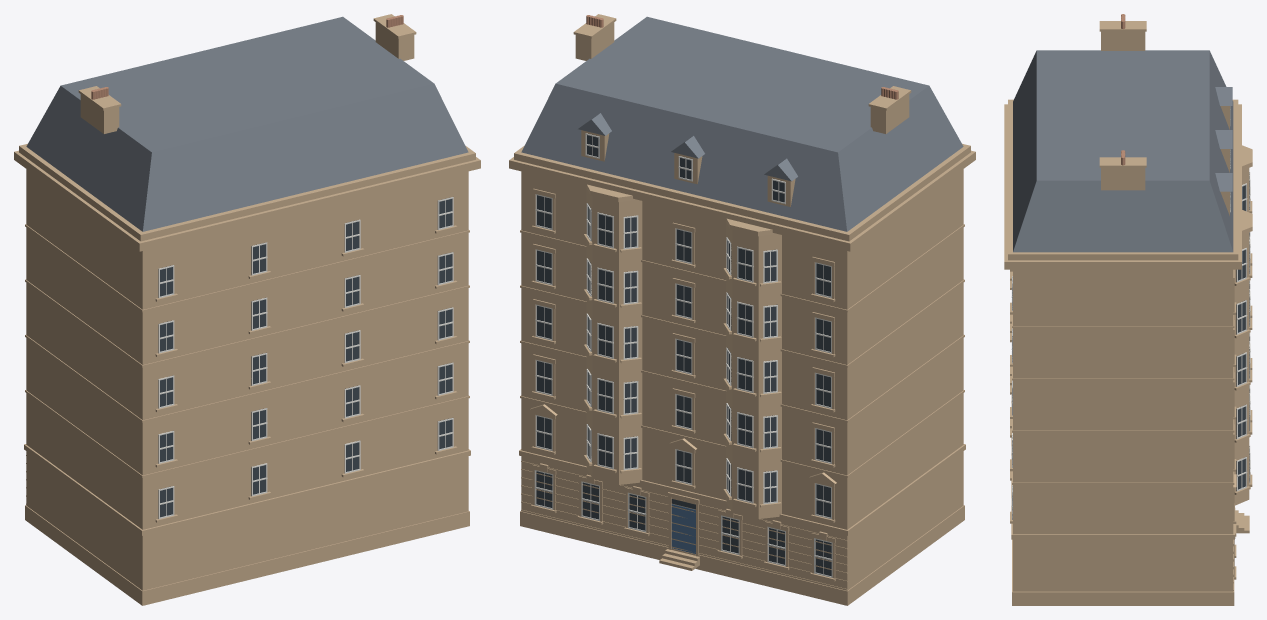
File: classical6_bays.glb
The picture shows the model from 3 angles, left to right: view 1: azimuth 30°, elevation 25°; view 2: azimuth 150°, elevation 25°; view 3: azimuth 270°, elevation 25°; orthographic projection. The views are drawn at different scales.
Parts seen in each view (by area): view 1: classical6_bays; view 2: classical6_bays; view 3: classical6_bays.
Boxes of the visible parts, left/top/right/bottom form: classical6_bays: left=14, top=14, right=480, bottom=605; classical6_bays: left=509, top=14, right=975, bottom=605; classical6_bays: left=1004, top=14, right=1252, bottom=605.
Bounding box in the file's own units: 22 × 28.92 × 14.63.
